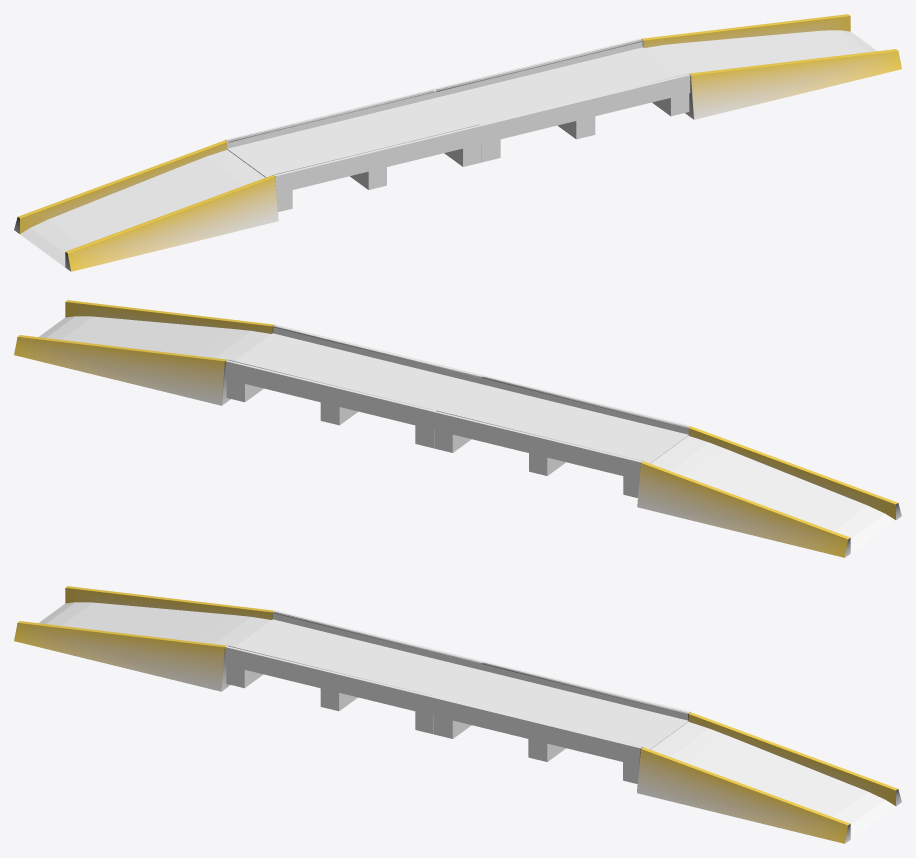
Rendered from weight_station.dae.
3 views of the same model, one above another, from view 1: azimuth 30°, elevation 25°; view 2: azimuth 150°, elevation 25°; view 3: azimuth 330°, elevation 25° (orthographic).
Visible parts, largest first — view 1: weight_sation_a5000, Colmesh_weight_sation-1, weight_sation_a400, weight_sation_a2500; view 2: weight_sation_a5000, Colmesh_weight_sation-1, weight_sation_a400, weight_sation_a2500; view 3: weight_sation_a5000, Colmesh_weight_sation-1, weight_sation_a400, weight_sation_a2500.
Part boxes in pixels (x1,y1,x2,y2): weight_sation_a5000: (14, 14, 901, 271); Colmesh_weight_sation-1: (19, 38, 694, 267); weight_sation_a400: (20, 16, 895, 267); weight_sation_a2500: (228, 15, 900, 174); weight_sation_a5000: (14, 300, 901, 557); Colmesh_weight_sation-1: (221, 324, 896, 552); weight_sation_a400: (20, 302, 895, 553); weight_sation_a2500: (66, 301, 850, 500); weight_sation_a5000: (14, 586, 901, 843); Colmesh_weight_sation-1: (225, 610, 690, 792); weight_sation_a400: (20, 588, 895, 839); weight_sation_a2500: (20, 587, 895, 804).
Bounding box in the file's own units: 40 × 4.78 × 1.95.
